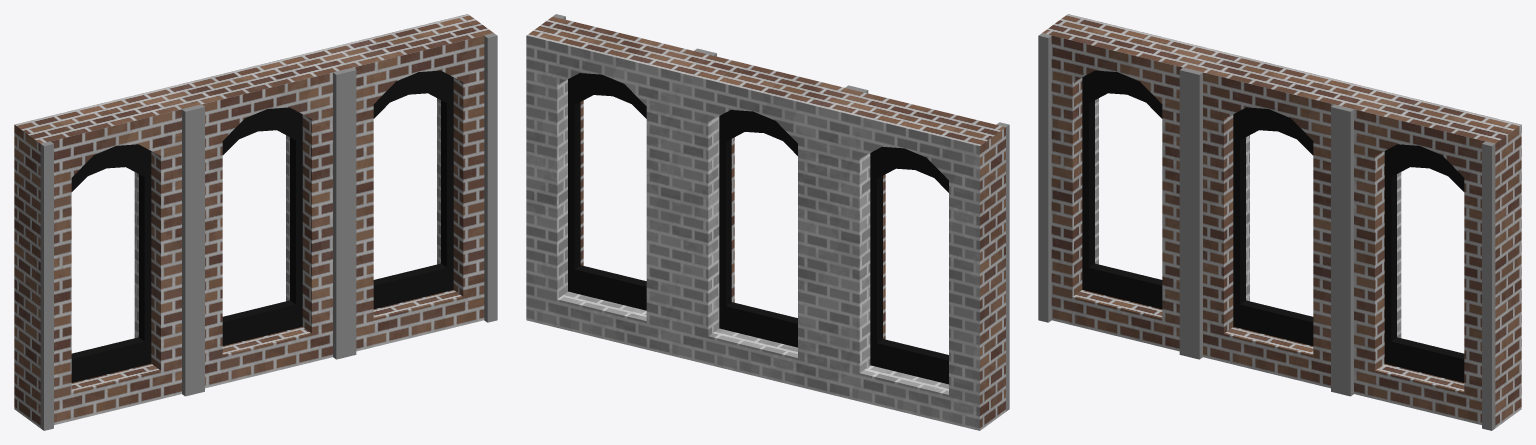
Rendered from Straight_Wall_008.FBX.
3 views of the same model, side by side, from view 1: azimuth 30°, elevation 25°; view 2: azimuth 150°, elevation 25°; view 3: azimuth 330°, elevation 25° (orthographic).
Parts seen in each view (by area): view 1: Straight_Wall_008; view 2: Straight_Wall_008; view 3: Straight_Wall_008.
Part boxes in pixels (left/top/right/bottom): Straight_Wall_008: left=14, top=14, right=497, bottom=430; Straight_Wall_008: left=526, top=14, right=1009, bottom=430; Straight_Wall_008: left=1038, top=14, right=1521, bottom=430.
Size of the model in its own units: 500 by 56.48 by 300.
